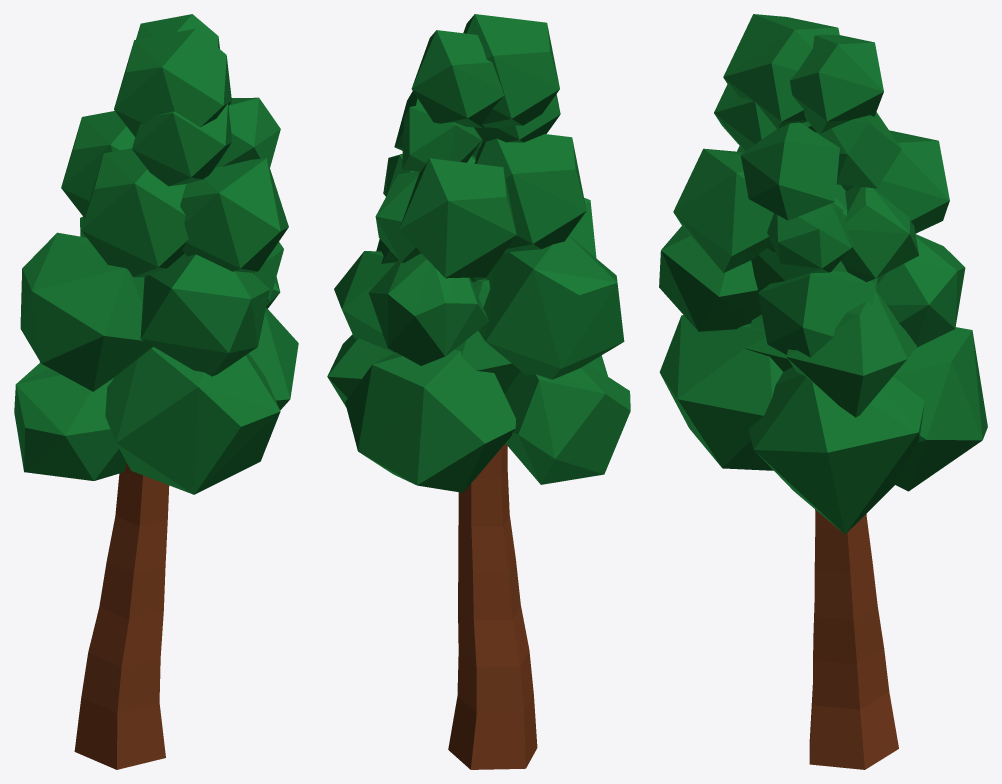
Rendered from tree.gltf.
3 views of the same model, side by side, from view 1: azimuth 30°, elevation 25°; view 2: azimuth 150°, elevation 25°; view 3: azimuth 270°, elevation 25° (orthographic). The views are drawn at different scales.
Visible parts, largest first — view 1: Albero.001_Multicolor_0; view 2: Albero.001_Multicolor_0; view 3: Albero.001_Multicolor_0.
Part boxes in pixels (x1,y1,x2,y2): Albero.001_Multicolor_0: (14,14,298,769); Albero.001_Multicolor_0: (327,14,630,769); Albero.001_Multicolor_0: (659,14,987,769).
Size of the model in its own units: 3.32 by 8.15 by 3.26.
1 material, 1 textured.
